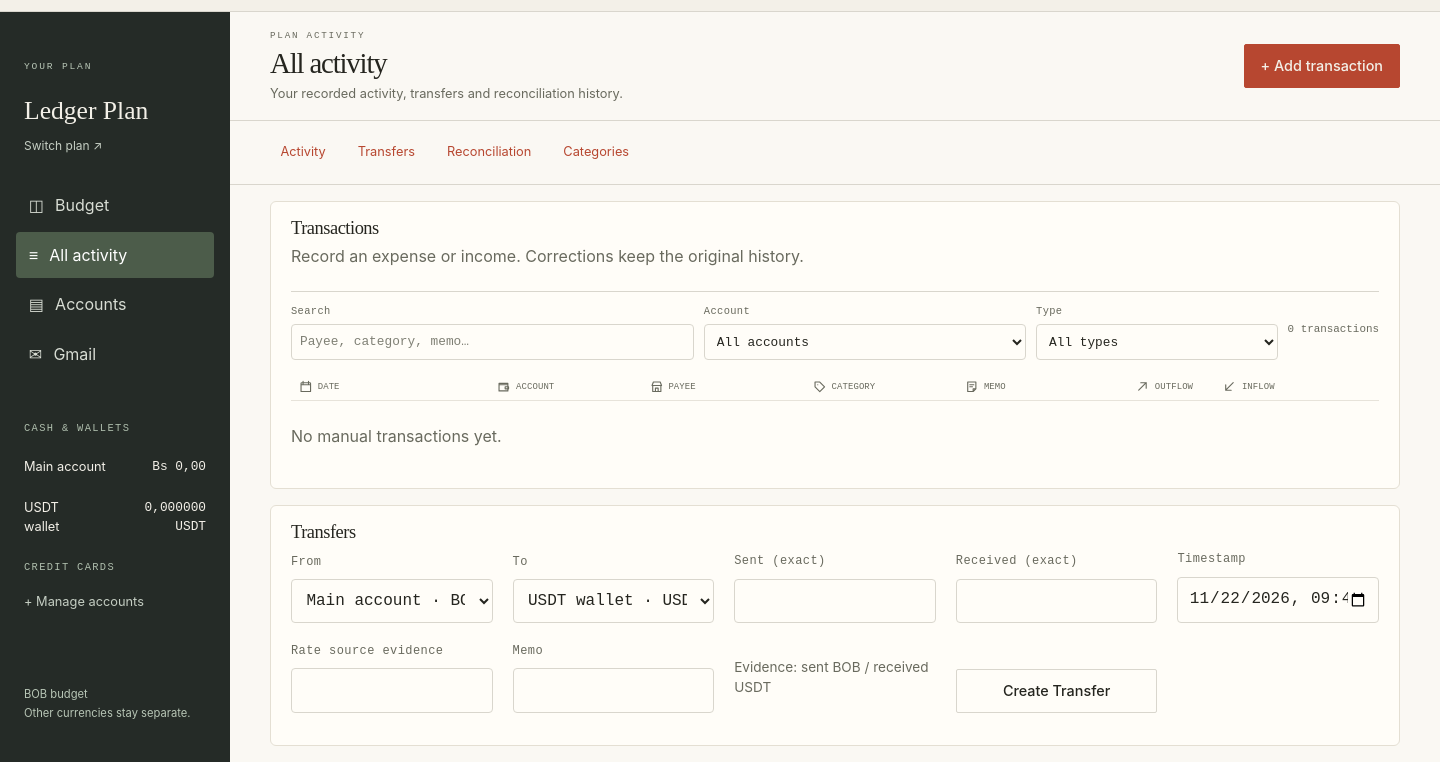
minimal authoritative client flows › posts an exact cross-currency Transfer, renders grouped facts, and refetches after reversal
Type "99999999999999999999.99" into the field labelled "Sent (exact)". click: point(835, 601)
box: top-left (734, 579), bottom-right (936, 623)
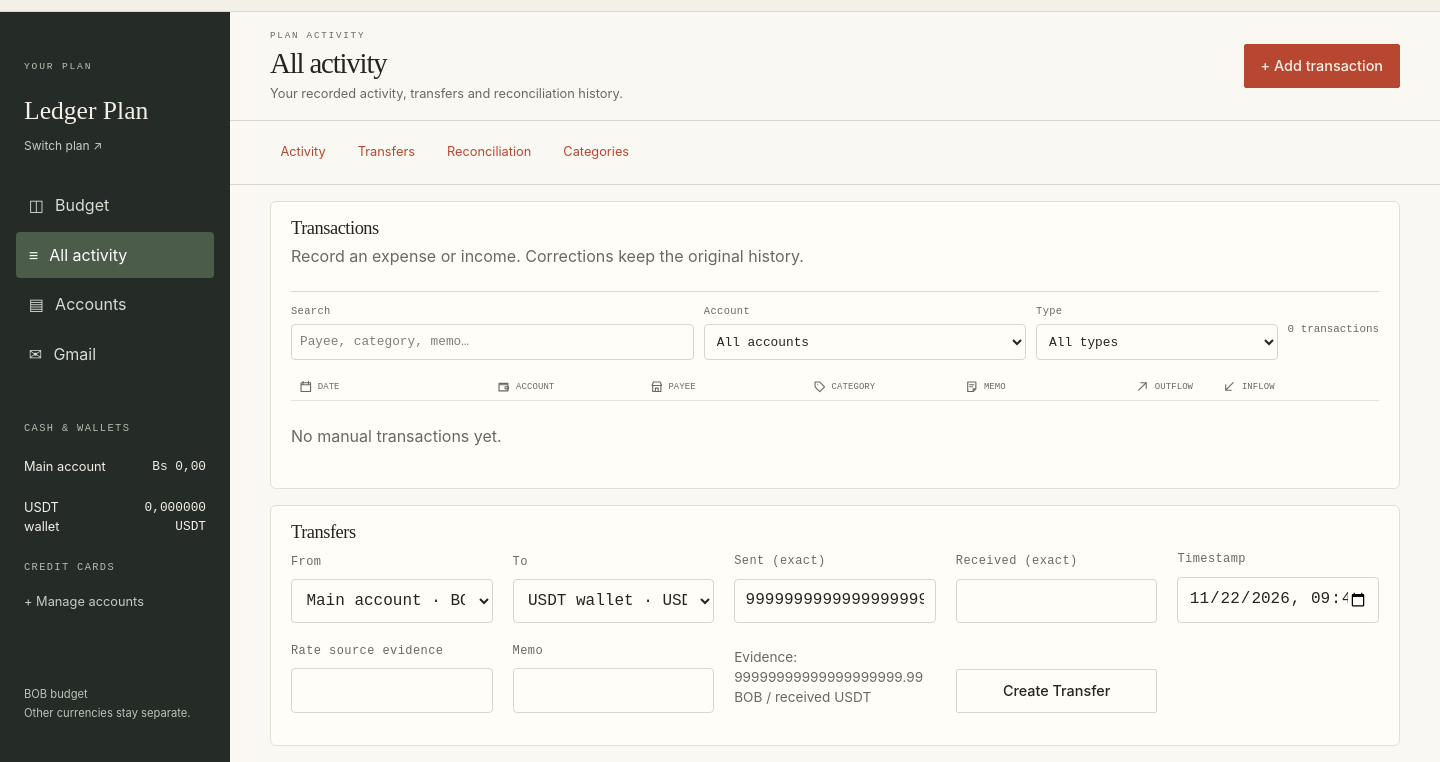
Type "10.000000" into the field labelled "Received (exact)". click: point(1057, 601)
box: top-left (956, 579), bottom-right (1157, 623)
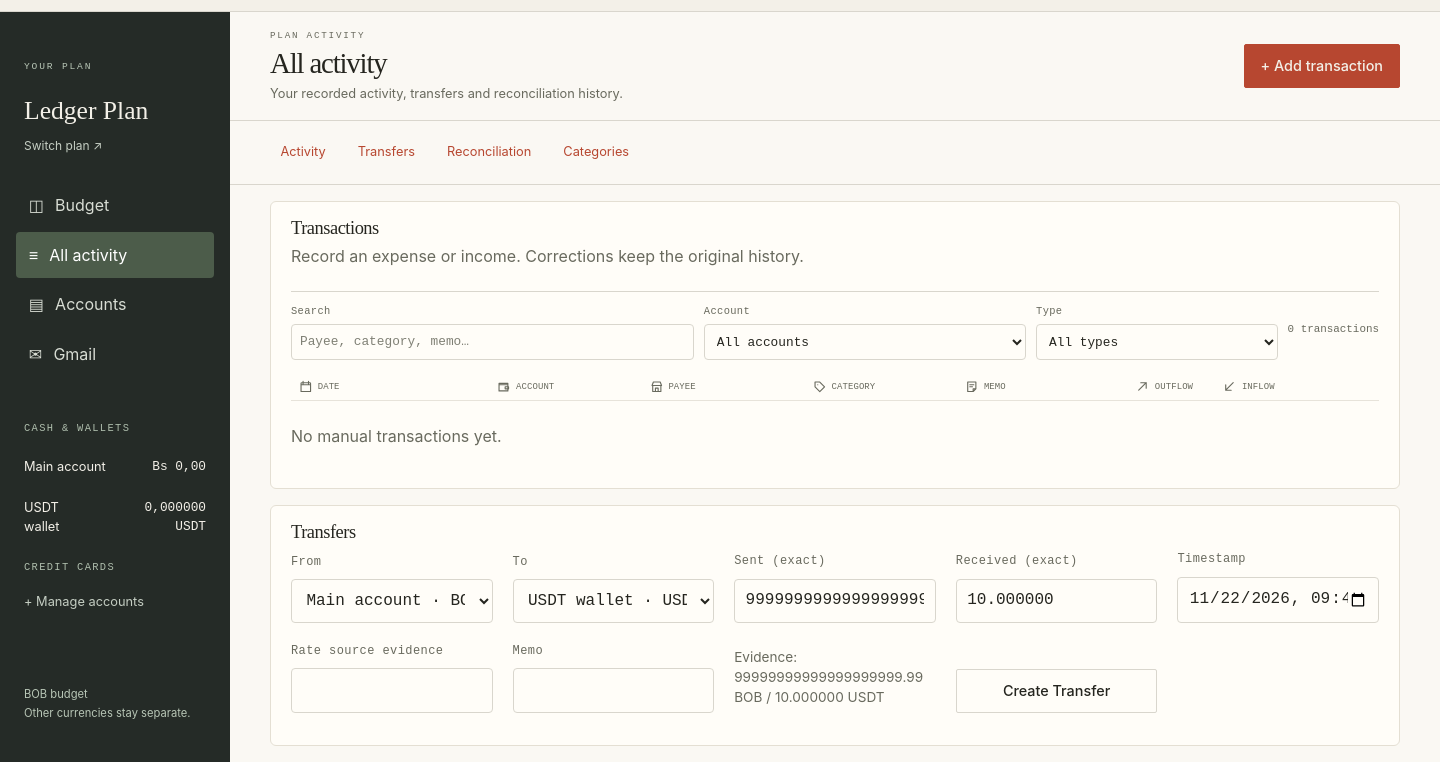
Type "bank receipt" into the field labelled "Rate source evidence". click: point(392, 691)
box: top-left (291, 668), bottom-right (493, 713)
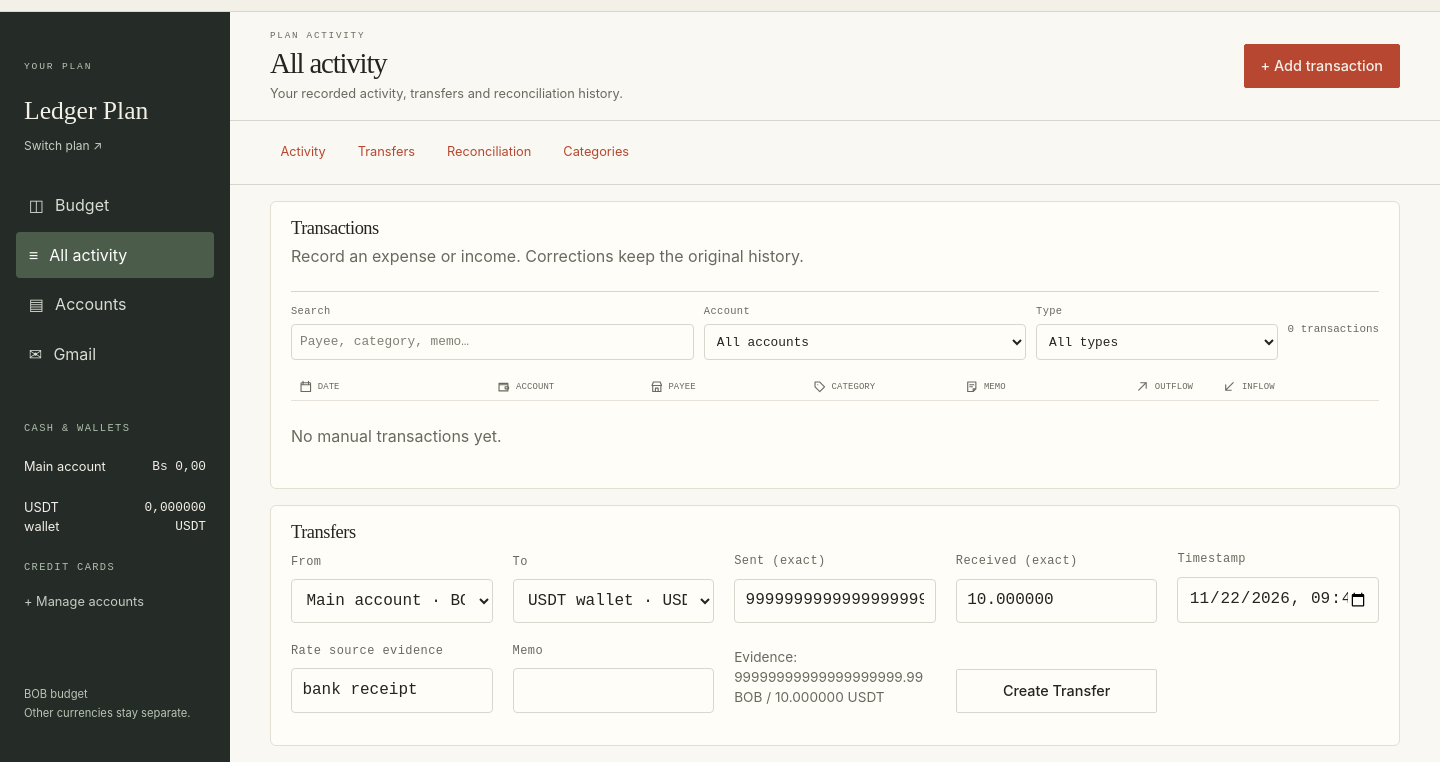
Click the button "Create Transfer". click: point(1057, 691)
box: top-left (956, 669), bottom-right (1157, 713)
(page scrolled)
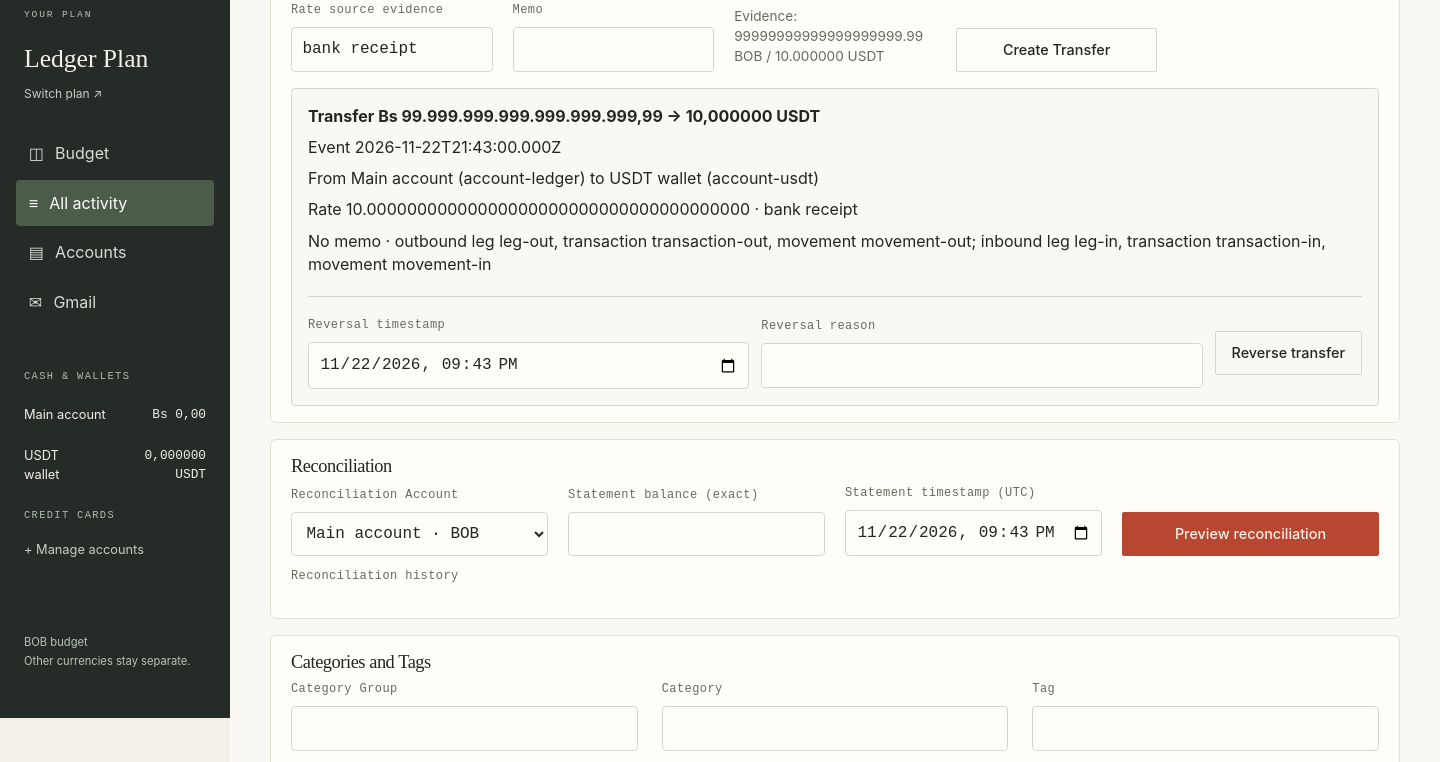
expect the text "Transfer Bs 99.999.999.999.999.999.999,99 → 10,000000 USDT" is shown: met, box top-left (308, 106), bottom-right (820, 126)
expect the text "Event 2026-11-22T21:43:00.000Z" is shown: met, box top-left (308, 137), bottom-right (561, 157)
expect the text "outbound leg leg-out, transaction transaction-out" is shown: met, box top-left (308, 230), bottom-right (1326, 274)
Type "duplicate" into the field labelled "Reversal reason". click: point(982, 366)
box: top-left (761, 343), bottom-right (1203, 388)
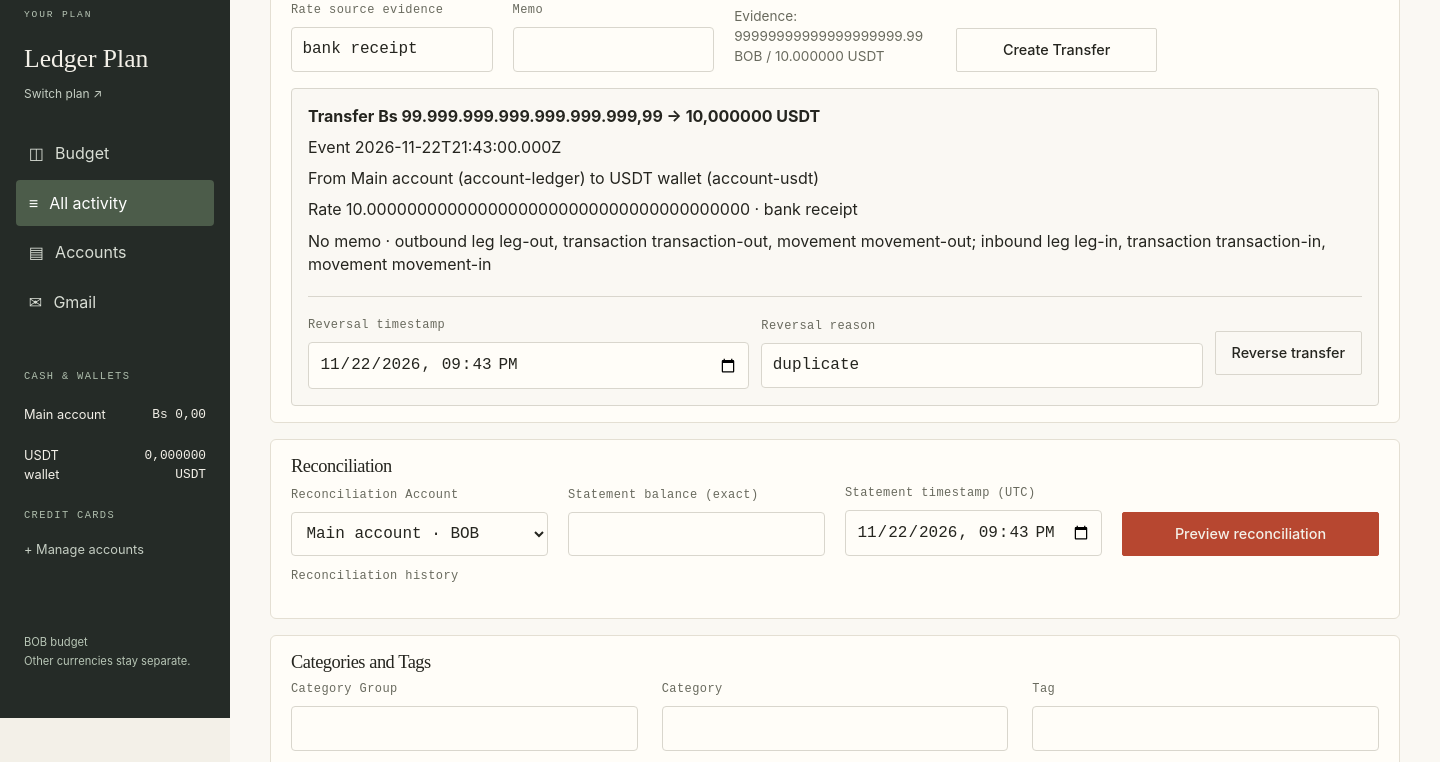
Click the button "Reverse transfer". click: point(1288, 353)
box: top-left (1215, 331), bottom-right (1362, 375)
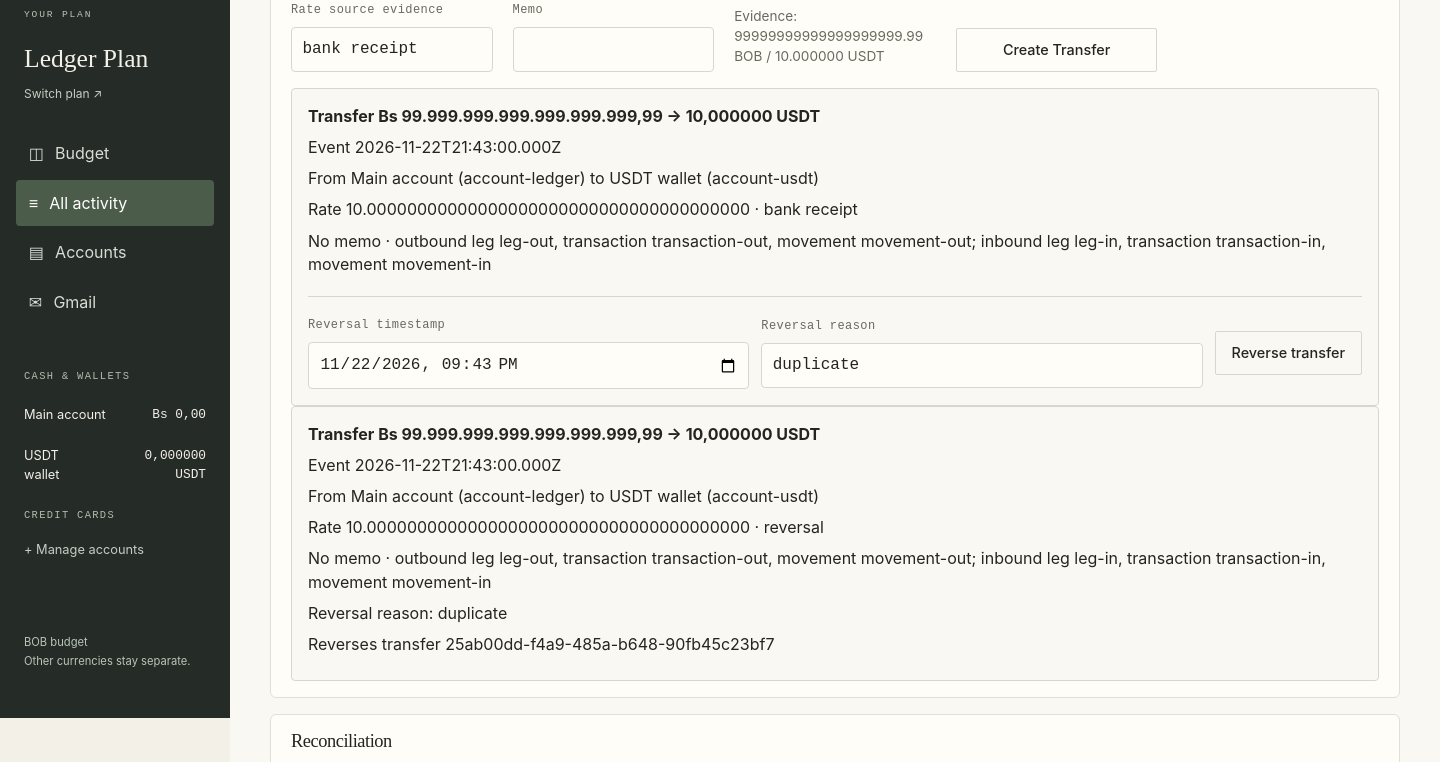
expect the text "Reversal reason: duplicate" is shown: met, box top-left (308, 603), bottom-right (507, 623)
